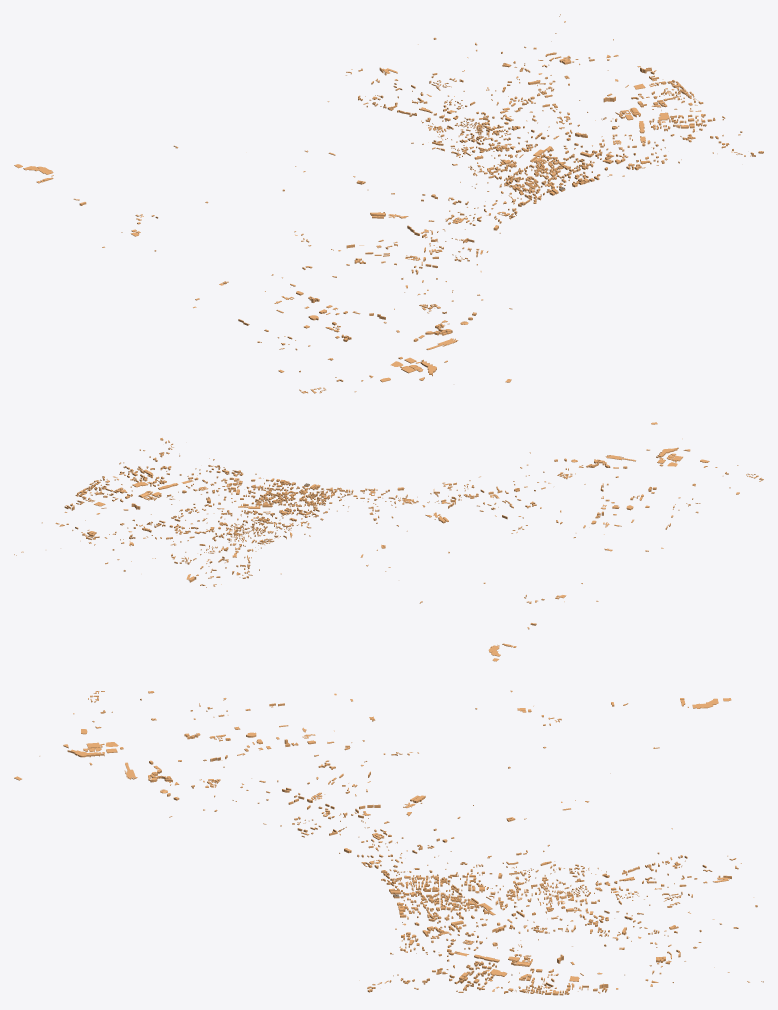
File: nice_buildings.glb
3 views of the same model, one above another, from view 1: azimuth 30°, elevation 25°; view 2: azimuth 150°, elevation 25°; view 3: azimuth 270°, elevation 25° (orthographic). The views are drawn at different scales.
Size of the model in its own units: 8980 by 257 by 9326.
